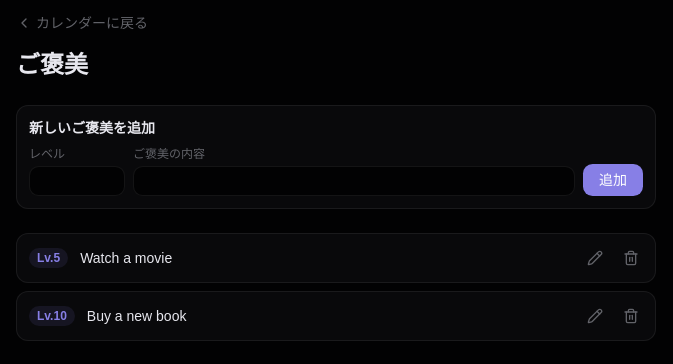
Test: RewardsPage › edits a reward description
The width and height of the screenshot is (673, 364).
expect the text "Watch a movie" is shown: met, box [80,250,172,266]
Click the button named "編集" in the row of "Watch a movie" at (595, 258), box [583,246,607,270]
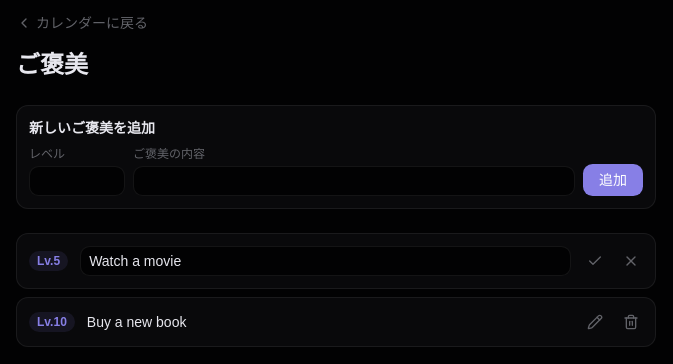
Replace the text in the field showing "Watch a movie" with "Watch two movies" at (326, 261), box [80,246,571,276]
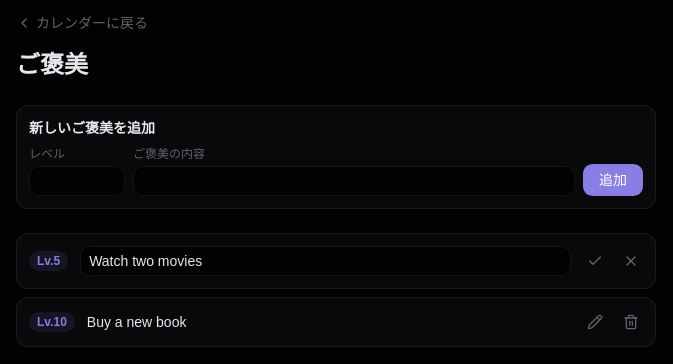
Click the button named "保存" at (595, 261), box [583,249,607,273]
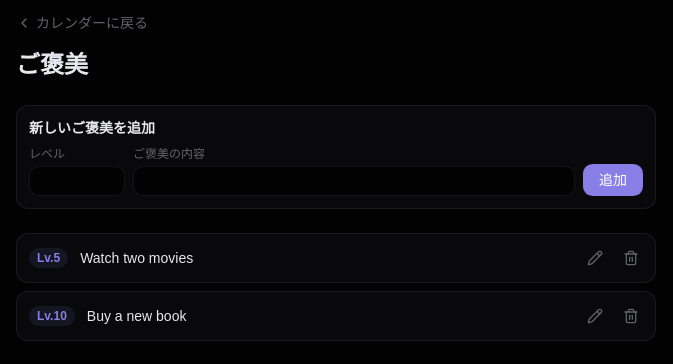
expect the text "Watch two movies" is shown: met, box [80,250,193,266]
